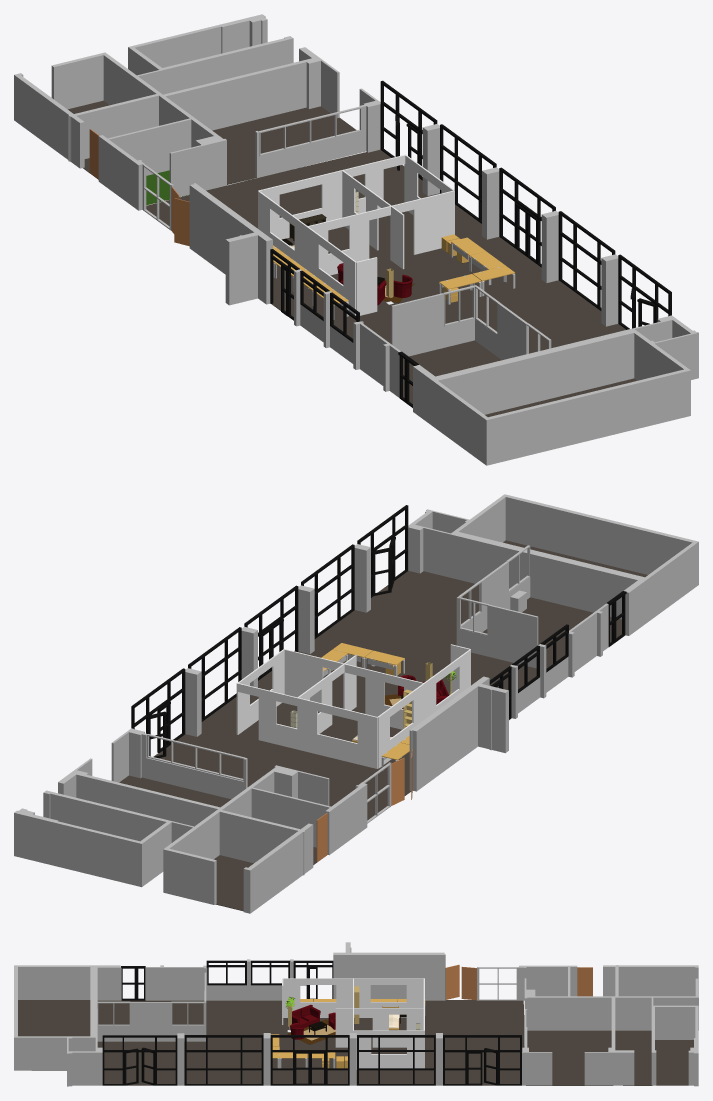
The model's file is laas_adream_narrow.obj.
The picture shows the model from 3 angles, top to bottom: view 1: azimuth 30°, elevation 25°; view 2: azimuth 150°, elevation 25°; view 3: azimuth 270°, elevation 25°; orthographic projection. The views are drawn at different scales.
Parts seen in each view (by area): view 1: walls.002_Cube.117, walls.010_Cube.125, Floor_h020_Plane.002, glass_wall_h20_1_Cube.018, walls.004_Cube.119, Floor_h022_Plane.005, walls.011_Cube.126, walls.001_Cube.116, walls.000_Cube.001, Floor_h021_Plane.001, walls.005_Cube.002, walls.007_Cube.122 (+12 smaller); view 2: walls.002_Cube.117, walls.010_Cube.125, Floor_h020_Plane.002, walls.004_Cube.119, glass_wall_h20_1_Cube.018, walls.001_Cube.116, walls.011_Cube.126, walls.000_Cube.001, Floor_h021_Plane.001, walls.005_Cube.002, Floor_h002_Plane.010, Floor_h022_Plane.005 (+13 smaller); view 3: Floor_h020_Plane.002, walls.002_Cube.117, walls.010_Cube.125, glass_wall_h20_1_Cube.018, walls.004_Cube.119, walls.011_Cube.126, Floor_h022_Plane.005, Floor_h006_Plane, walls.005_Cube.002, Floor_h021_Plane.001, Floor_h003_Plane.006, Floor_h004_Plane.009 (+34 smaller).
Boxes of the visible parts, bbox=[...] form: walls.002_Cube.117: bbox=[14, 14, 339, 210]; walls.010_Cube.125: bbox=[413, 315, 698, 465]; Floor_h020_Plane.002: bbox=[146, 149, 626, 353]; glass_wall_h20_1_Cube.018: bbox=[380, 80, 671, 329]; walls.004_Cube.119: bbox=[189, 183, 272, 305]; Floor_h022_Plane.005: bbox=[212, 106, 356, 184]; walls.011_Cube.126: bbox=[294, 269, 400, 397]; walls.001_Cube.116: bbox=[255, 88, 380, 177]; walls.000_Cube.001: bbox=[391, 285, 476, 356]; Floor_h021_Plane.001: bbox=[403, 340, 501, 403]; walls.005_Cube.002: bbox=[475, 303, 527, 360]; walls.007_Cube.122: bbox=[482, 167, 499, 239]; walls.002_Cube.117: bbox=[14, 758, 367, 913]; walls.010_Cube.125: bbox=[408, 494, 698, 635]; Floor_h020_Plane.002: bbox=[153, 571, 536, 820]; walls.004_Cube.119: bbox=[409, 676, 508, 791]; glass_wall_h20_1_Cube.018: bbox=[131, 505, 408, 745]; walls.001_Cube.116: bbox=[111, 728, 247, 799]; walls.011_Cube.126: bbox=[510, 603, 608, 718]; walls.000_Cube.001: bbox=[456, 597, 538, 668]; Floor_h021_Plane.001: bbox=[482, 597, 621, 668]; walls.005_Cube.002: bbox=[461, 561, 530, 632]; Floor_h002_Plane.010: bbox=[214, 855, 253, 911]; Floor_h022_Plane.005: bbox=[119, 775, 230, 807]; Floor_h020_Plane.002: bbox=[97, 1000, 524, 1085]; walls.002_Cube.117: bbox=[517, 965, 698, 1086]; walls.010_Cube.125: bbox=[14, 965, 121, 1086]; glass_wall_h20_1_Cube.018: bbox=[102, 1035, 521, 1085]; walls.004_Cube.119: bbox=[333, 942, 445, 1000]; walls.011_Cube.126: bbox=[146, 959, 293, 1000]; Floor_h022_Plane.005: bbox=[526, 1030, 612, 1085]; Floor_h006_Plane: bbox=[18, 1000, 90, 1036]; walls.005_Cube.002: bbox=[97, 1002, 204, 1041]; Floor_h021_Plane.001: bbox=[97, 1000, 204, 1024]; Floor_h003_Plane.006: bbox=[655, 1040, 693, 1085]; Floor_h004_Plane.009: bbox=[615, 1030, 652, 1085].
Bounding box in the file's own units: 13.45 × 3.2 × 39.63.
